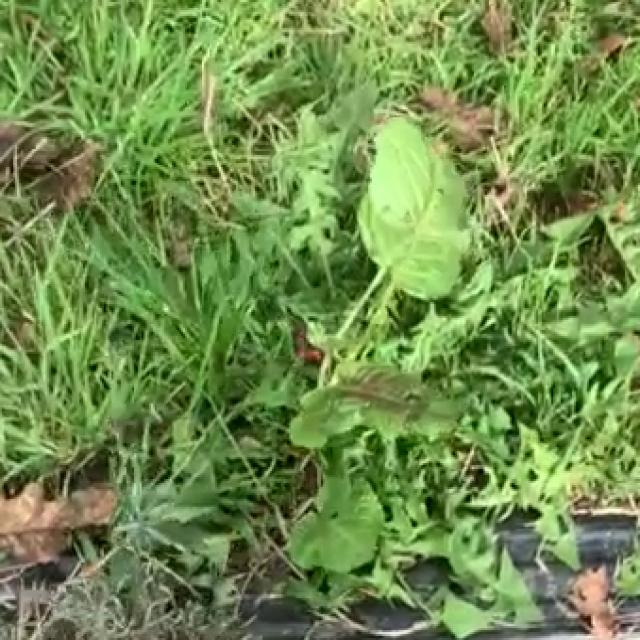organic waste: (290, 97, 580, 608)
